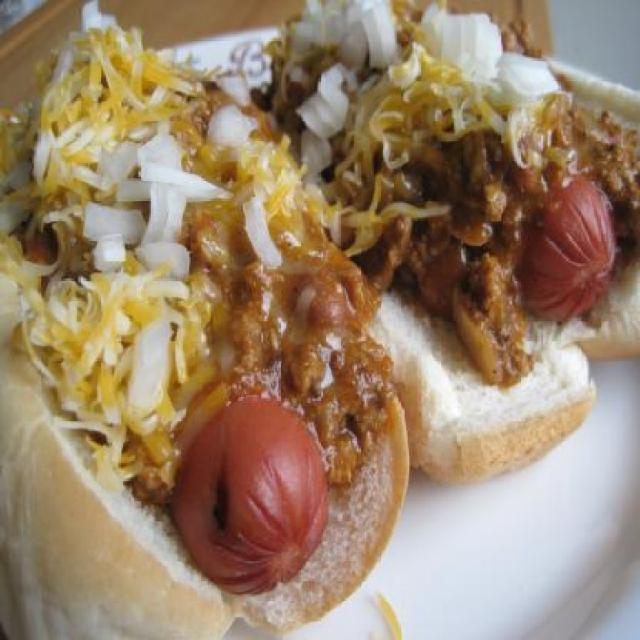Hot dog: (0, 11, 375, 640), (216, 0, 638, 483), (281, 0, 640, 475)
